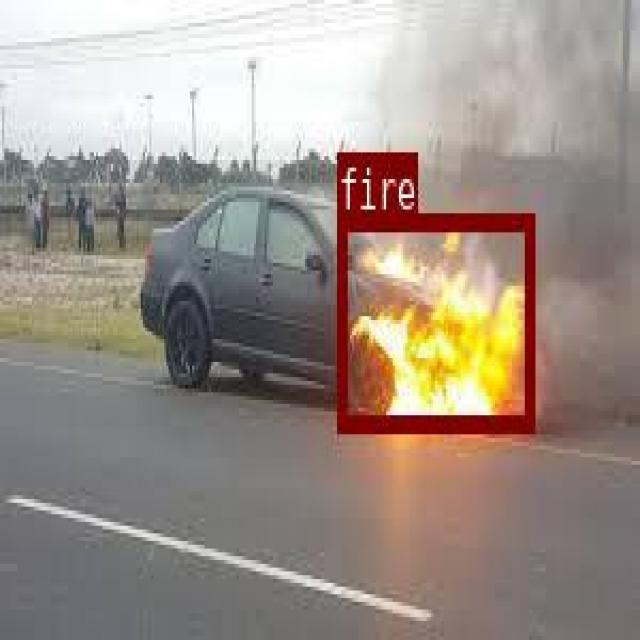fire: (337, 211, 532, 427)
